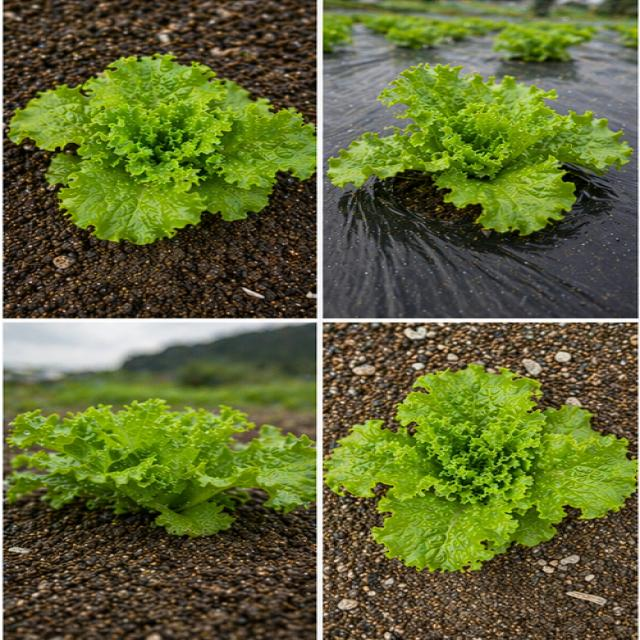inmadura: (328, 64, 631, 234), (6, 399, 315, 537)
lista_para_cosechar: (326, 364, 636, 571), (8, 53, 315, 244)
